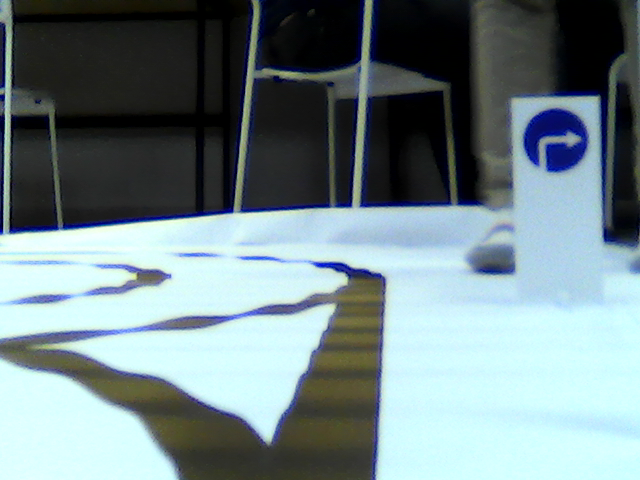Right: (521, 105, 590, 175)
